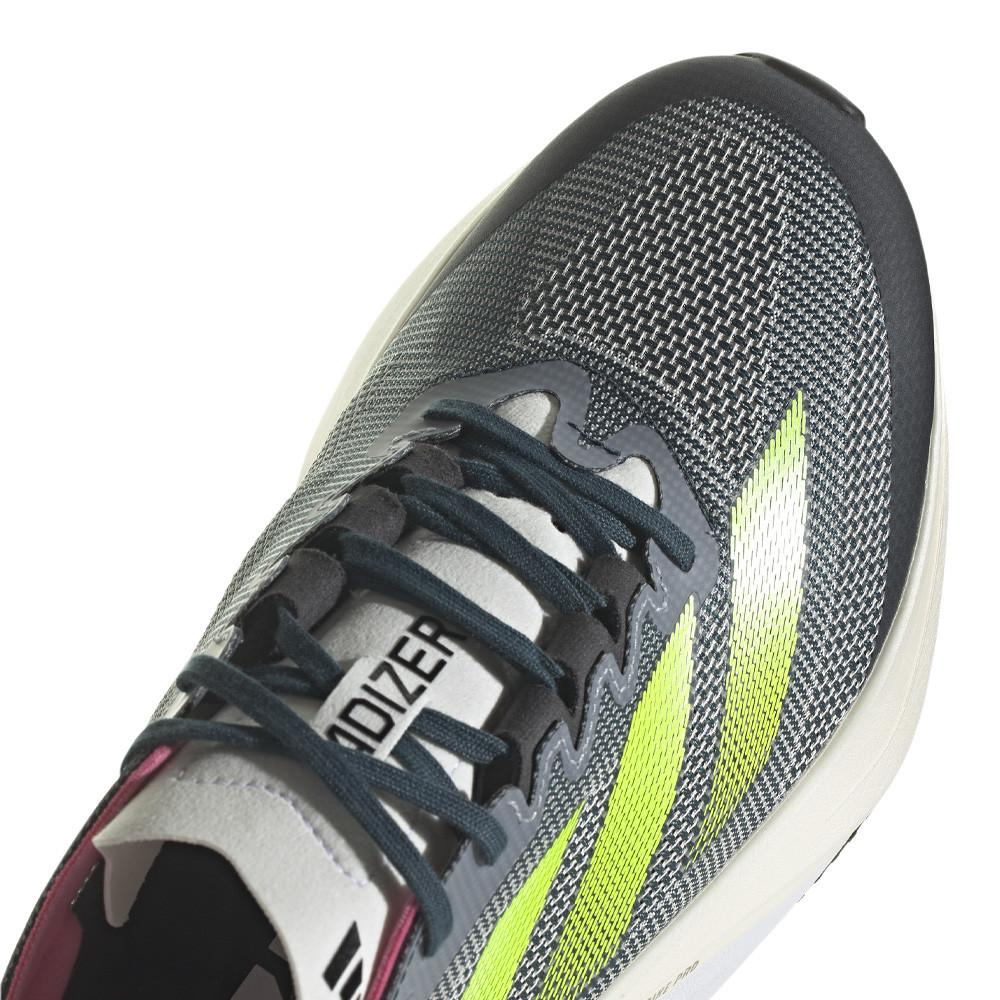adidas logo: (419, 329, 864, 999)
